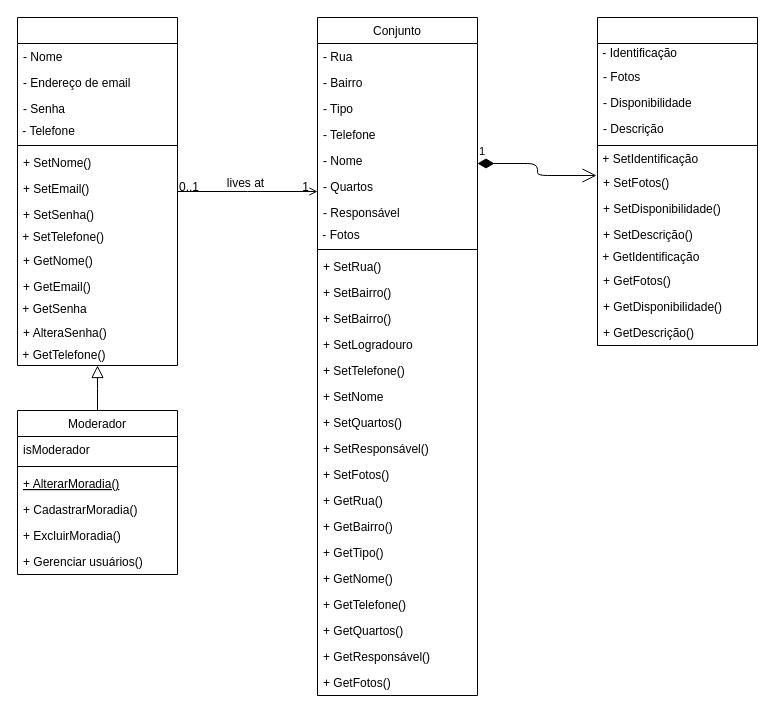
Some shapes in this 775 by 716 pixel diagram are drawn without their labels. Each missing label, with the box of its shape:
Quartos: (596, 16, 758, 346)
Usuário: (16, 16, 178, 366)
